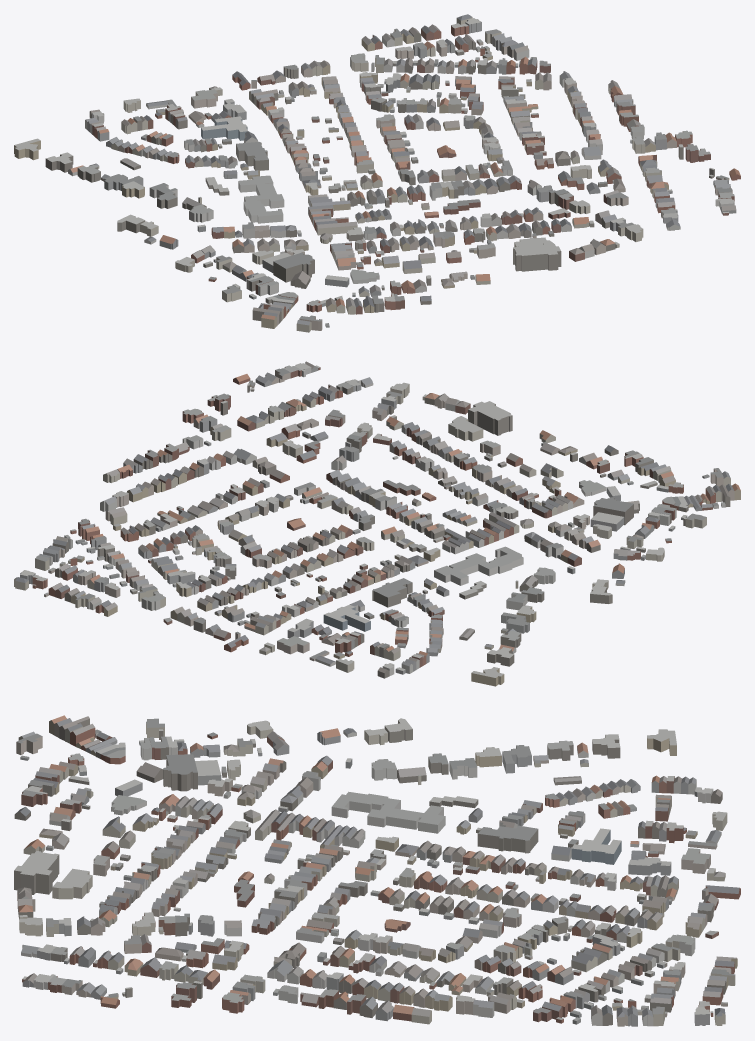
3 renders of one model, top to bottom at view 1: azimuth 30°, elevation 25°; view 2: azimuth 150°, elevation 25°; view 3: azimuth 270°, elevation 25°, orthographic. The views are drawn at different scales.
Visible parts, largest first — view 1: way/267314770, way/222578157, way/267314774, way/268161865, way/268161860; view 2: way/267314770, way/222578157, way/268161865, way/268161860, way/267314774, way/455171093; view 3: way/267314770, way/222578157, way/268161860, way/268161865, way/267314774, way/455171093, way/299751006, way/353928554, way/407285596, way/268161857, way/353928592, way/289299554 (+1 smaller).
Part boxes in pixels (x1,y1,x2,y2): way/267314770: (238,175,284,223); way/222578157: (513,242,561,271); way/267314774: (273,252,314,282); way/268161865: (201,116,247,140); way/268161860: (236,141,268,170); way/267314770: (434,546,523,585); way/222578157: (468,401,512,435); way/268161865: (323,604,370,631); way/268161860: (372,578,412,607); way/267314774: (593,497,633,525); way/455171093: (448,416,483,441); way/267314770: (331,791,445,833); way/222578157: (14,851,59,894); way/268161860: (477,825,538,853); way/268161865: (571,828,621,864); way/267314774: (163,754,197,791); way/455171093: (52,868,92,899); way/299751006: (628,857,671,875); way/353928554: (502,745,531,773); way/407285596: (647,729,676,755); way/268161857: (681,848,710,873); way/353928592: (592,734,620,758); way/289299554: (195,760,221,785).
Bounding box in the file's own units: 517 × 38.83 × 517.
